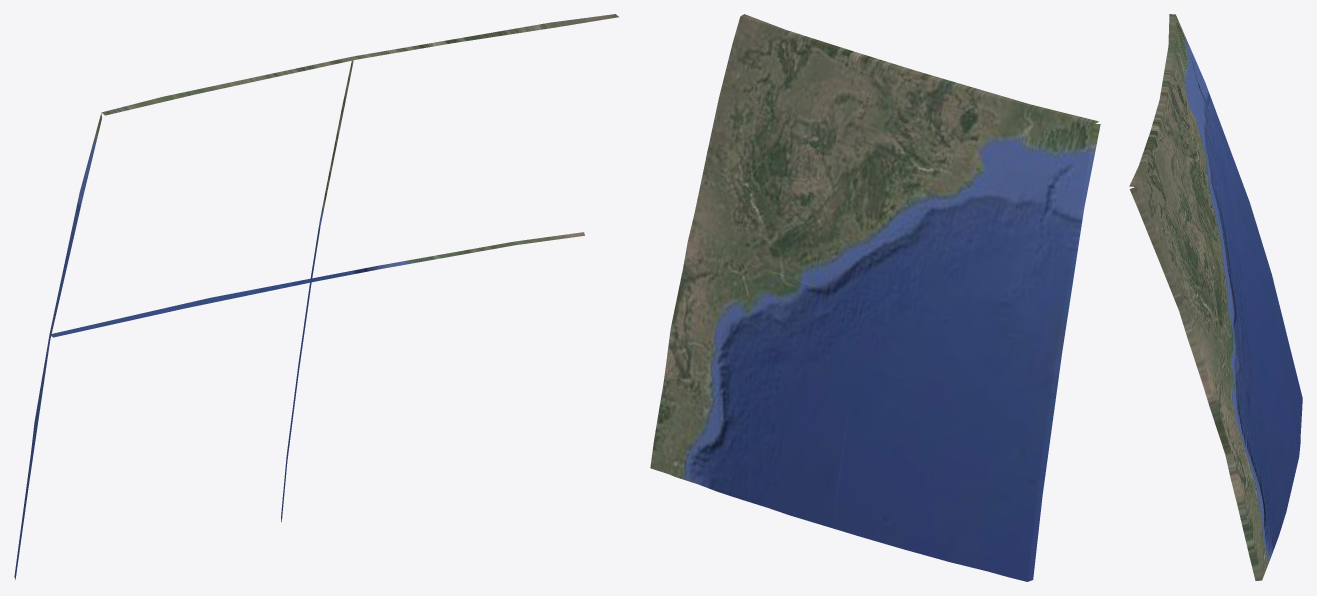
The picture shows the model from 3 angles, left to right: view 1: azimuth 30°, elevation 25°; view 2: azimuth 150°, elevation 25°; view 3: azimuth 270°, elevation 25°; orthographic projection. The views are drawn at different scales.
Size of the model in its own units: 1236032 by 1208533 by 490017.
Materials: 1 (1 with a texture image).
